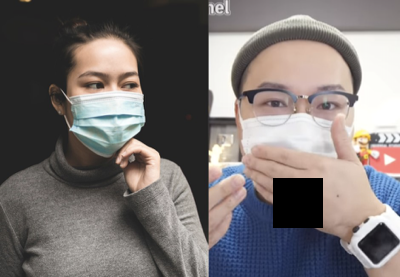with_mask: (239, 81, 357, 175), (67, 70, 146, 161)
